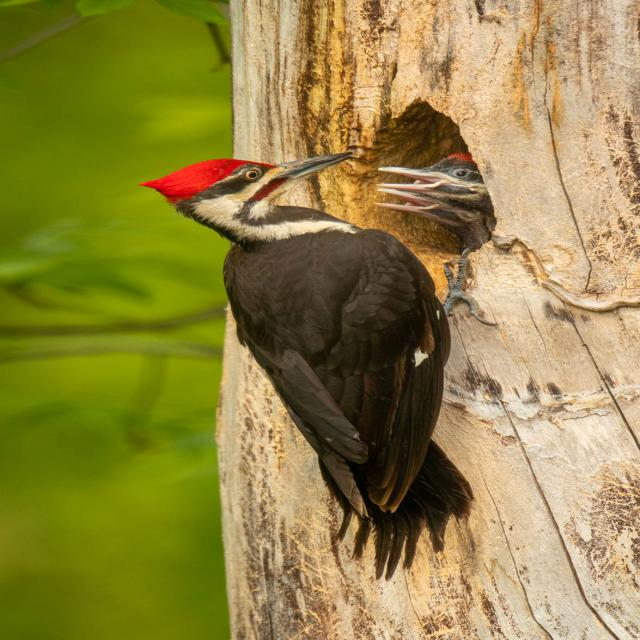woodpecker: (143, 150, 472, 579)
